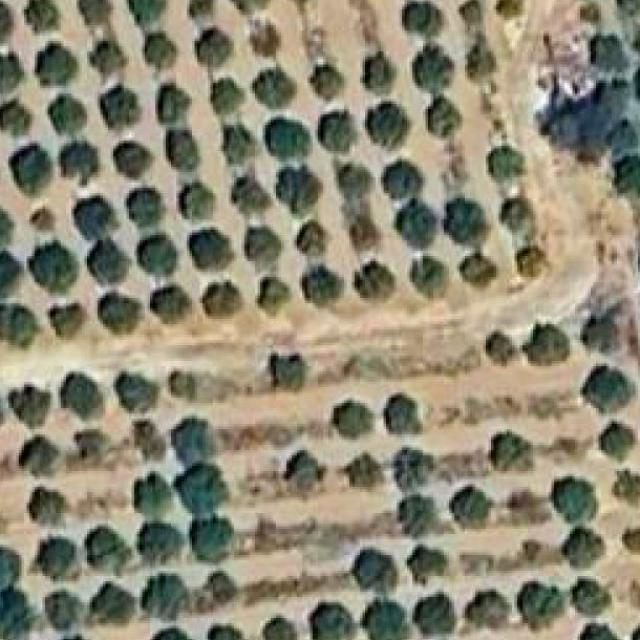Tree: (542, 74, 640, 160), (174, 461, 230, 516), (29, 240, 80, 294), (583, 366, 636, 415), (127, 470, 178, 520), (85, 527, 132, 576), (171, 416, 217, 466), (518, 581, 564, 631), (143, 573, 191, 620), (276, 167, 322, 216), (12, 143, 54, 195), (365, 101, 410, 148), (444, 196, 489, 243), (397, 198, 438, 249), (134, 524, 186, 564), (554, 476, 597, 524), (412, 44, 454, 93), (352, 550, 398, 594), (292, 215, 336, 261), (61, 374, 103, 421), (562, 526, 606, 570), (90, 582, 136, 624), (266, 118, 312, 160), (489, 431, 535, 473), (363, 599, 410, 640), (522, 324, 570, 364), (399, 495, 442, 539), (100, 86, 142, 131), (87, 240, 129, 284), (98, 292, 140, 336), (416, 592, 458, 636), (394, 448, 436, 492), (38, 44, 80, 87), (8, 386, 51, 428), (253, 67, 296, 109), (284, 450, 326, 493), (449, 487, 492, 529), (465, 590, 510, 630), (192, 230, 234, 272), (0, 303, 40, 347), (61, 140, 101, 184), (310, 602, 356, 640), (583, 306, 621, 352), (138, 235, 178, 278), (407, 544, 450, 584), (300, 266, 345, 304), (0, 589, 33, 640), (231, 174, 271, 216), (354, 261, 396, 301), (384, 160, 426, 200), (196, 516, 232, 562), (36, 539, 76, 580), (426, 96, 463, 140), (19, 438, 59, 478), (127, 188, 165, 230), (410, 256, 447, 299), (572, 579, 612, 618), (150, 286, 191, 324), (202, 282, 244, 319), (332, 401, 374, 438), (605, 114, 640, 158), (45, 592, 85, 630), (195, 28, 233, 68), (404, 2, 444, 40), (496, 196, 534, 236), (348, 212, 384, 254), (50, 96, 87, 136), (122, 374, 159, 414), (599, 422, 636, 462), (77, 193, 113, 234), (158, 83, 193, 125), (489, 145, 527, 183), (590, 36, 628, 74), (71, 427, 109, 465), (180, 182, 216, 222), (245, 228, 282, 266), (321, 114, 358, 152), (363, 52, 396, 94), (90, 41, 127, 78), (116, 143, 154, 179), (337, 164, 372, 203), (344, 453, 382, 488), (389, 398, 424, 436), (457, 254, 498, 286), (169, 130, 200, 172), (33, 486, 67, 524), (0, 98, 34, 136), (258, 277, 291, 316), (274, 354, 308, 391), (515, 240, 549, 277), (226, 125, 257, 165), (24, 0, 59, 35), (211, 78, 245, 114), (465, 41, 497, 79), (166, 371, 204, 403), (134, 422, 164, 462), (311, 65, 345, 100), (0, 542, 27, 586), (145, 33, 177, 69), (614, 156, 640, 198), (54, 306, 86, 340), (206, 571, 240, 603), (0, 251, 22, 298), (486, 333, 517, 366), (514, 534, 548, 564), (0, 52, 24, 94), (129, 0, 167, 26), (253, 20, 277, 57), (615, 471, 640, 506), (263, 616, 298, 640), (457, 0, 488, 27), (82, 0, 109, 26), (0, 203, 14, 250), (153, 628, 202, 640), (582, 625, 621, 640), (30, 209, 54, 232), (496, 0, 525, 18), (232, 0, 271, 13), (0, 1, 12, 43), (208, 626, 242, 640), (190, 0, 214, 17), (625, 529, 640, 555), (625, 617, 640, 640), (620, 0, 640, 16), (636, 62, 640, 105), (635, 28, 640, 60)
